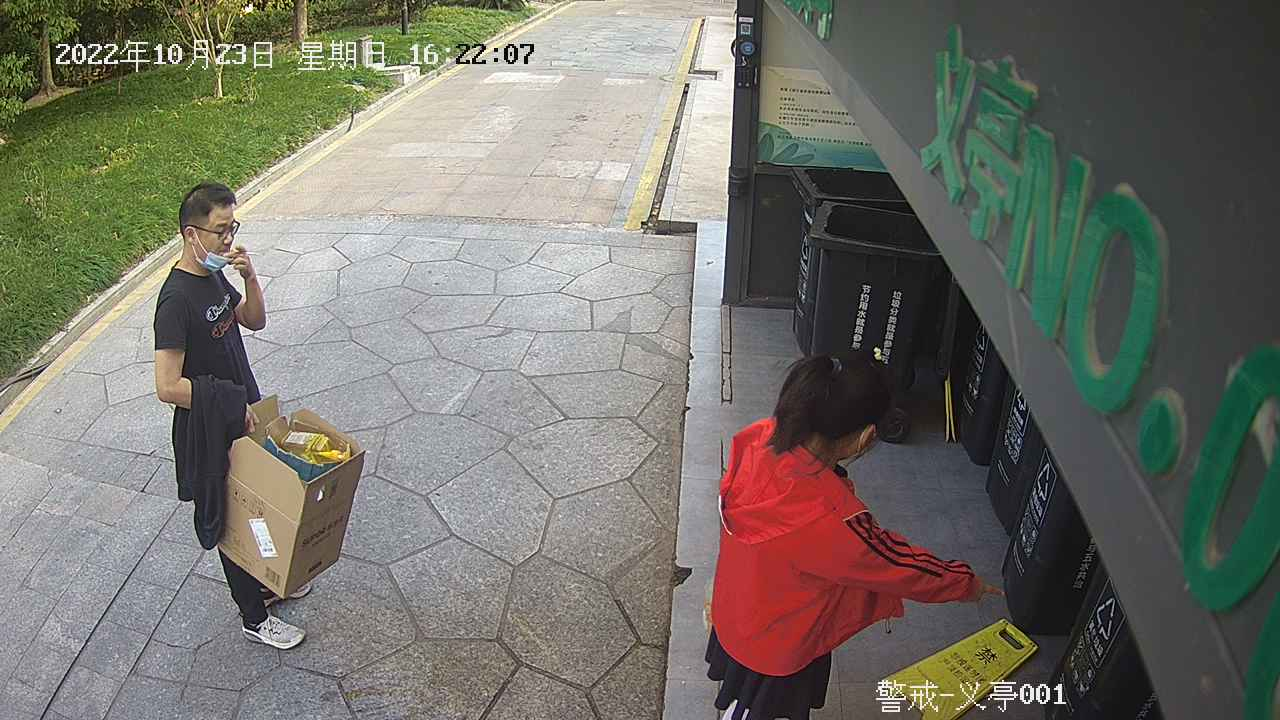person: (693, 340, 1008, 720), (144, 175, 324, 657)
zhizhipin: (208, 388, 371, 606)
